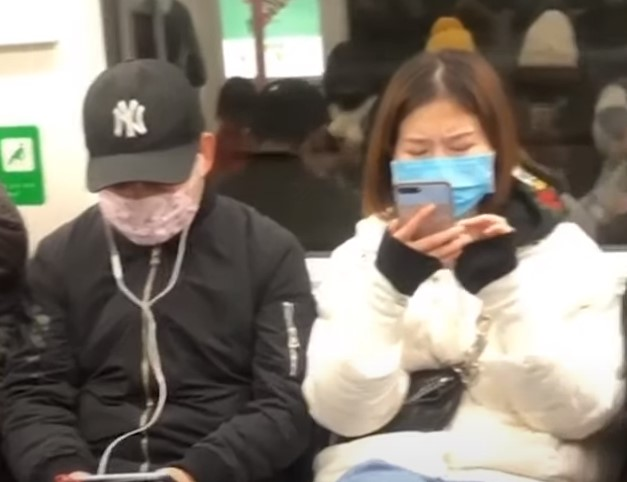face_with_mask: (86, 58, 216, 246), (378, 61, 516, 237)
